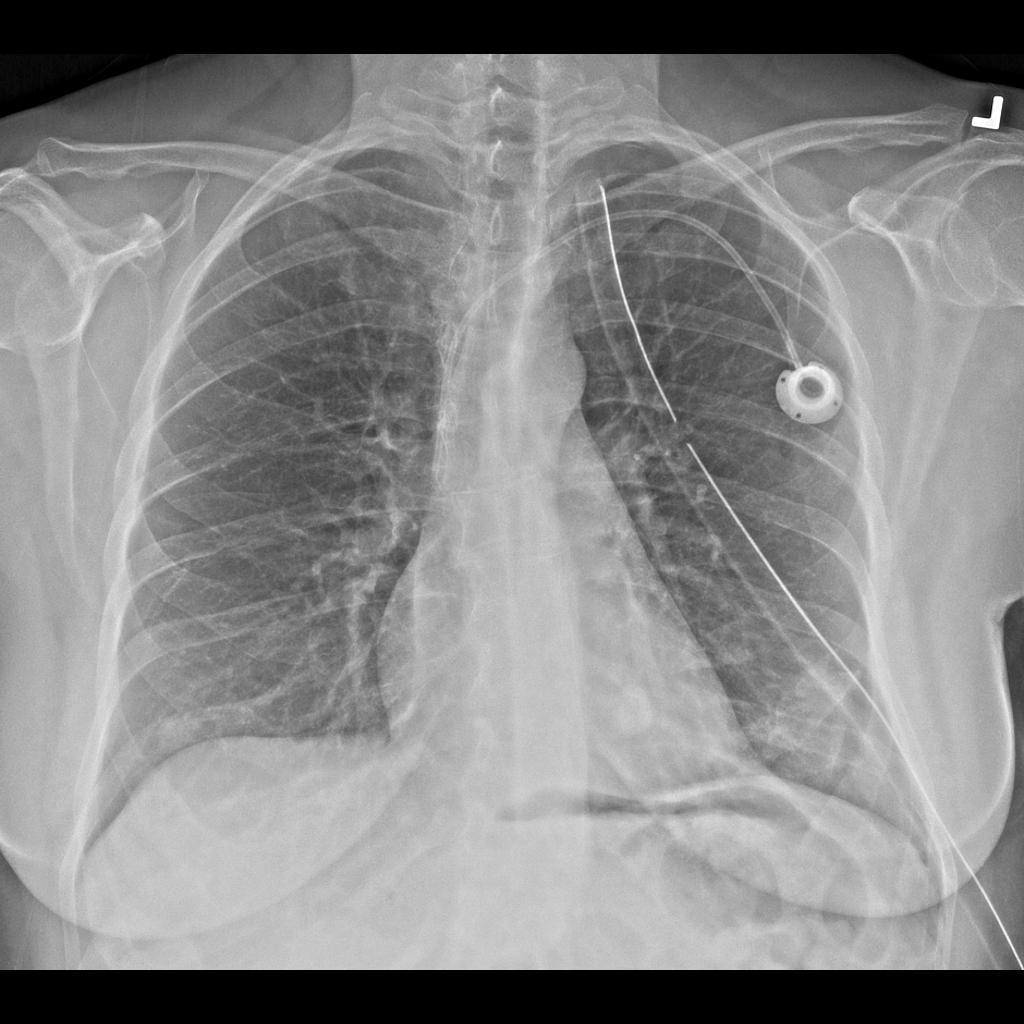Nodule: (596, 677, 663, 741)
